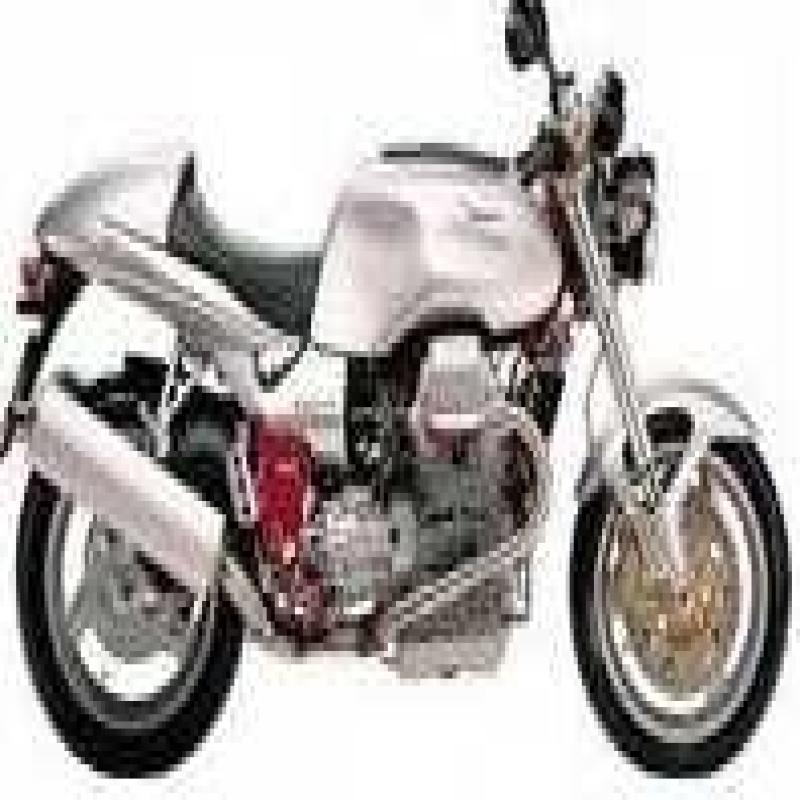bike: (17, 26, 771, 769)
